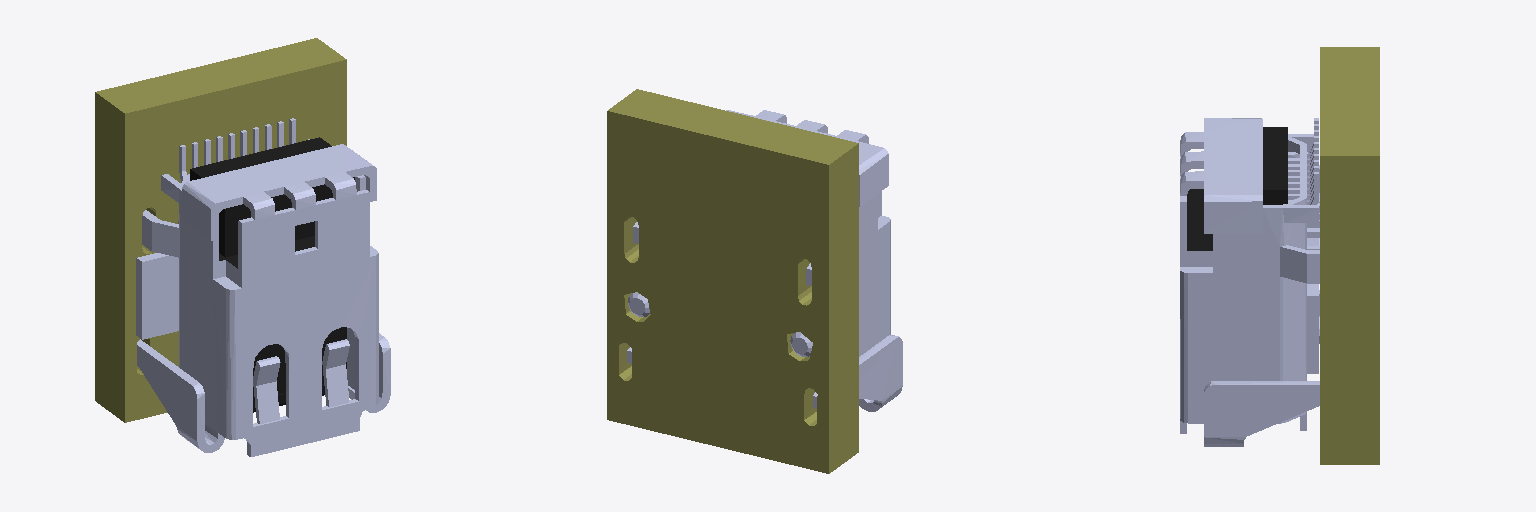
File: OBJ_NEW_PCB.obj
The picture shows the model from 3 angles: view 1: azimuth 30°, elevation 25°; view 2: azimuth 150°, elevation 25°; view 3: azimuth 270°, elevation 25°; orthographic projection.
Bounding box in the file's own units: 42.99 × 57.22 × 33.43.